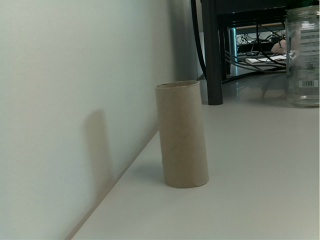rollo papel: (153, 80, 212, 191)
